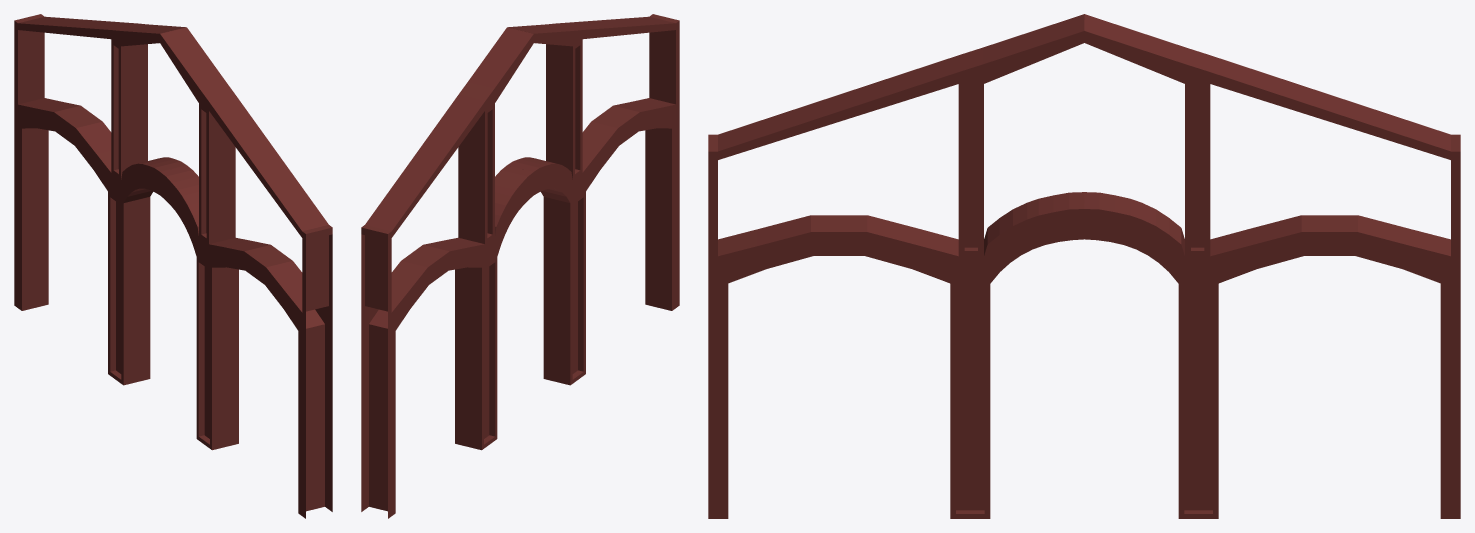
File: Estructura_sala_D.fbx
3 views of the same model, side by side, from view 1: azimuth 30°, elevation 25°; view 2: azimuth 150°, elevation 25°; view 3: azimuth 270°, elevation 25° (orthographic). The views are drawn at different scales.
Parts seen in each view (by area): view 1: Estructura_sala_D; view 2: Estructura_sala_D; view 3: Estructura_sala_D.
Part boxes in pixels (bbox=[...]): Estructura_sala_D: bbox=[14, 14, 332, 518]; Estructura_sala_D: bbox=[361, 14, 679, 518]; Estructura_sala_D: bbox=[708, 14, 1460, 518].
Size of the model in its own units: 121 by 1634 by 2283.
